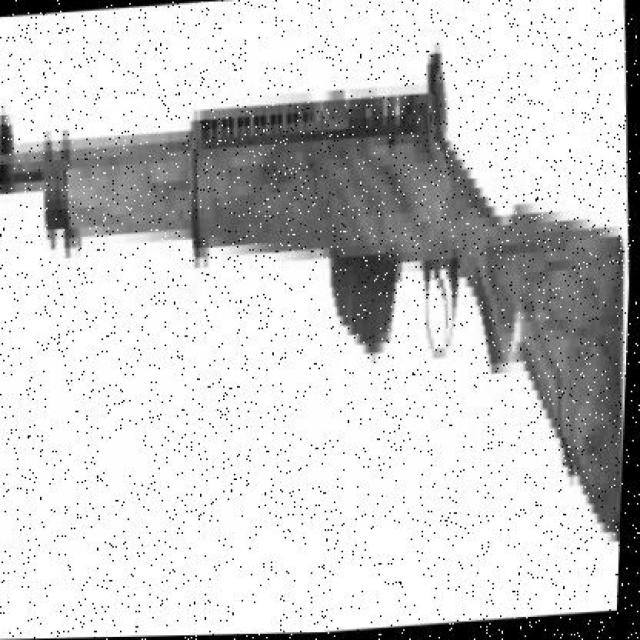weapon: (4, 51, 625, 548)
